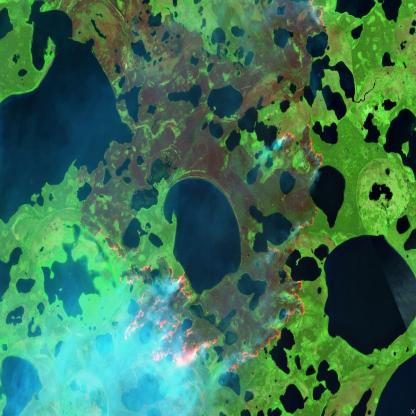fire: (108, 225, 304, 376), (275, 123, 327, 176), (304, 0, 331, 38)
